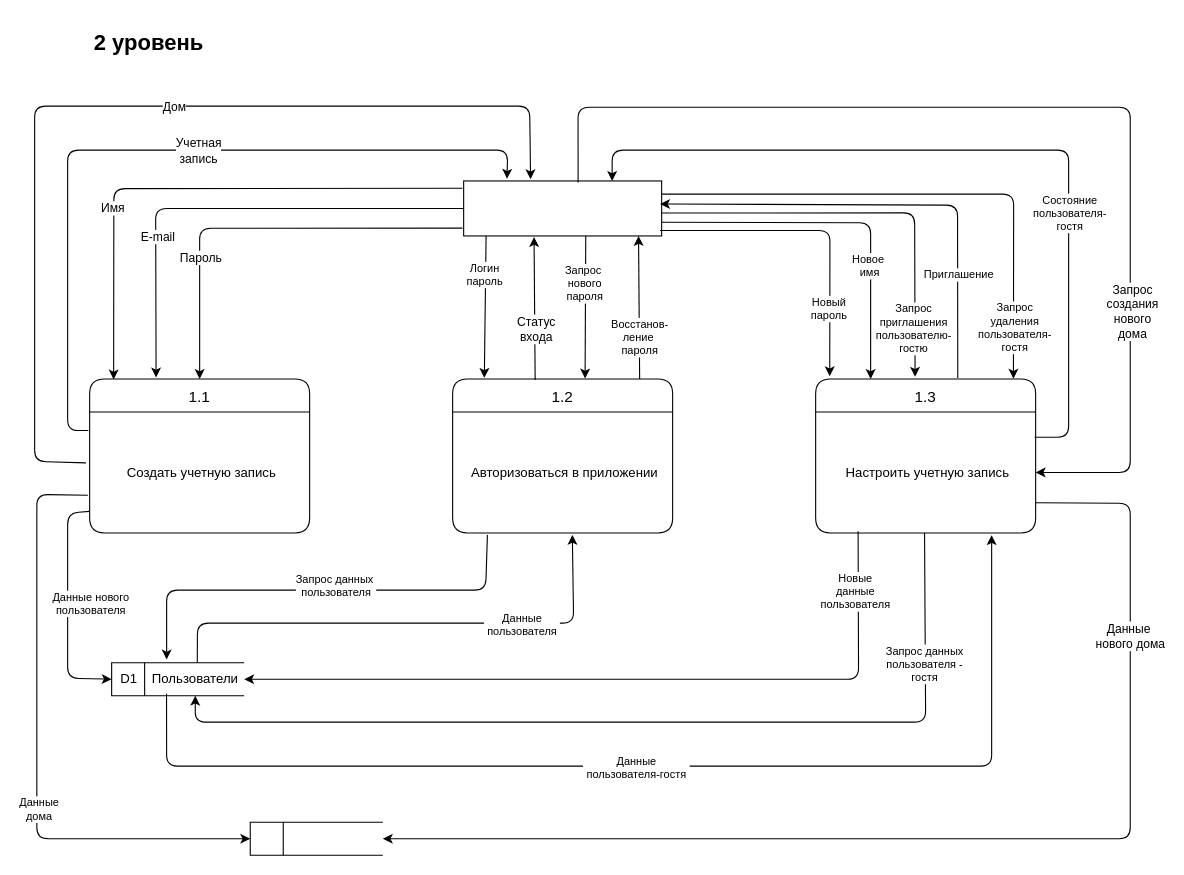
The diagram is 1184 pixels wide and 875 high, and some of its shapes have lost their labels. Each missing label, with the centre of its shape:
D4 Дома: [316,838]
Пользователь: [562,208]
